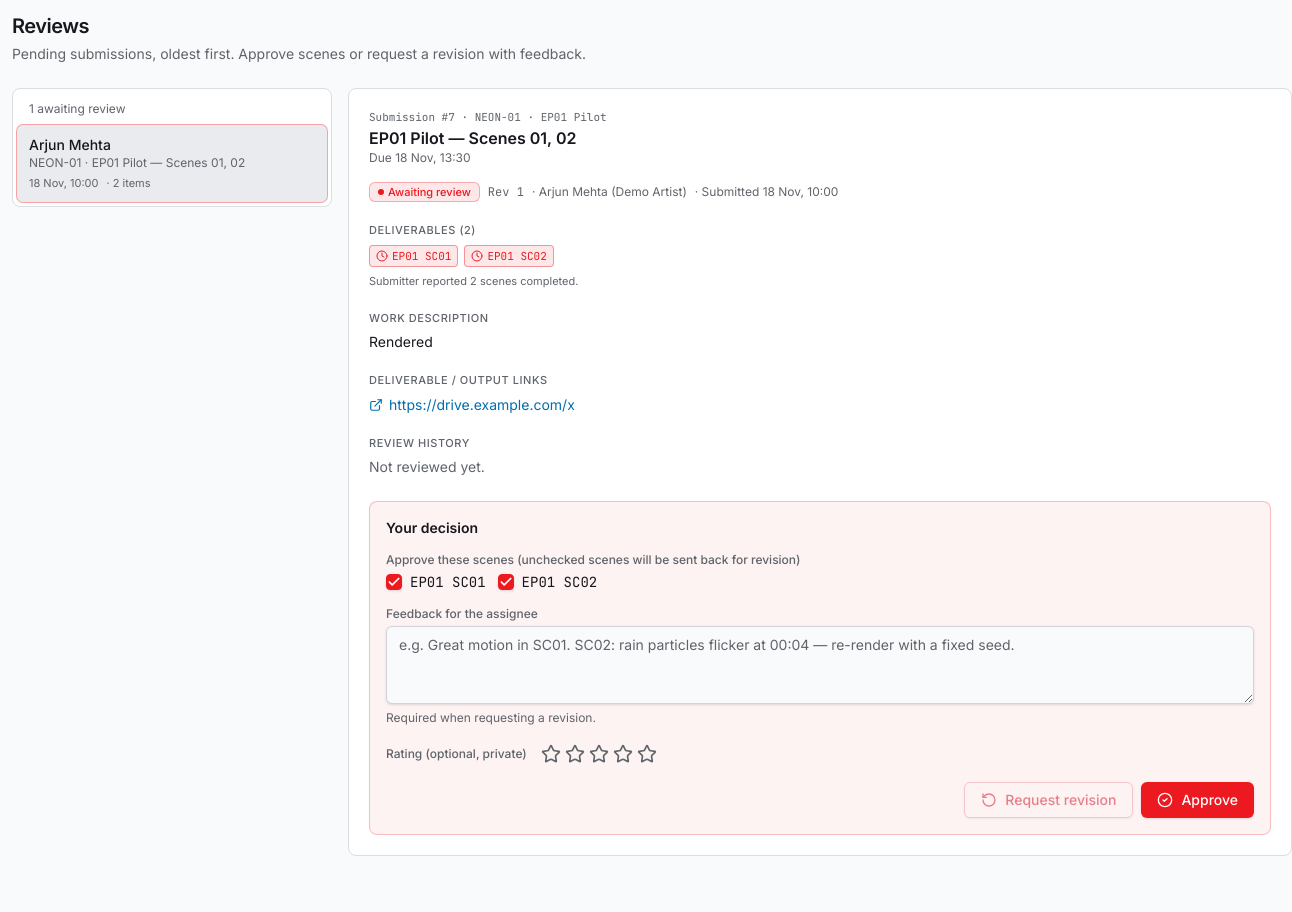
Test case: ReviewsPage › requires feedback for partial approval and sends only the checked scenes
This screenshot has width=1292, height=912.
Later steps or results of the test are not shown.
Expected: the button "Approve" is enabled, x1=1141 y1=782 x2=1254 y2=818
Expected: the button "Request revision" is disabled, x1=964 y1=782 x2=1134 y2=818
Click the 2nd checkbox named "EP01 SC02" at (506, 582), box x1=498 y1=574 x2=514 y2=590
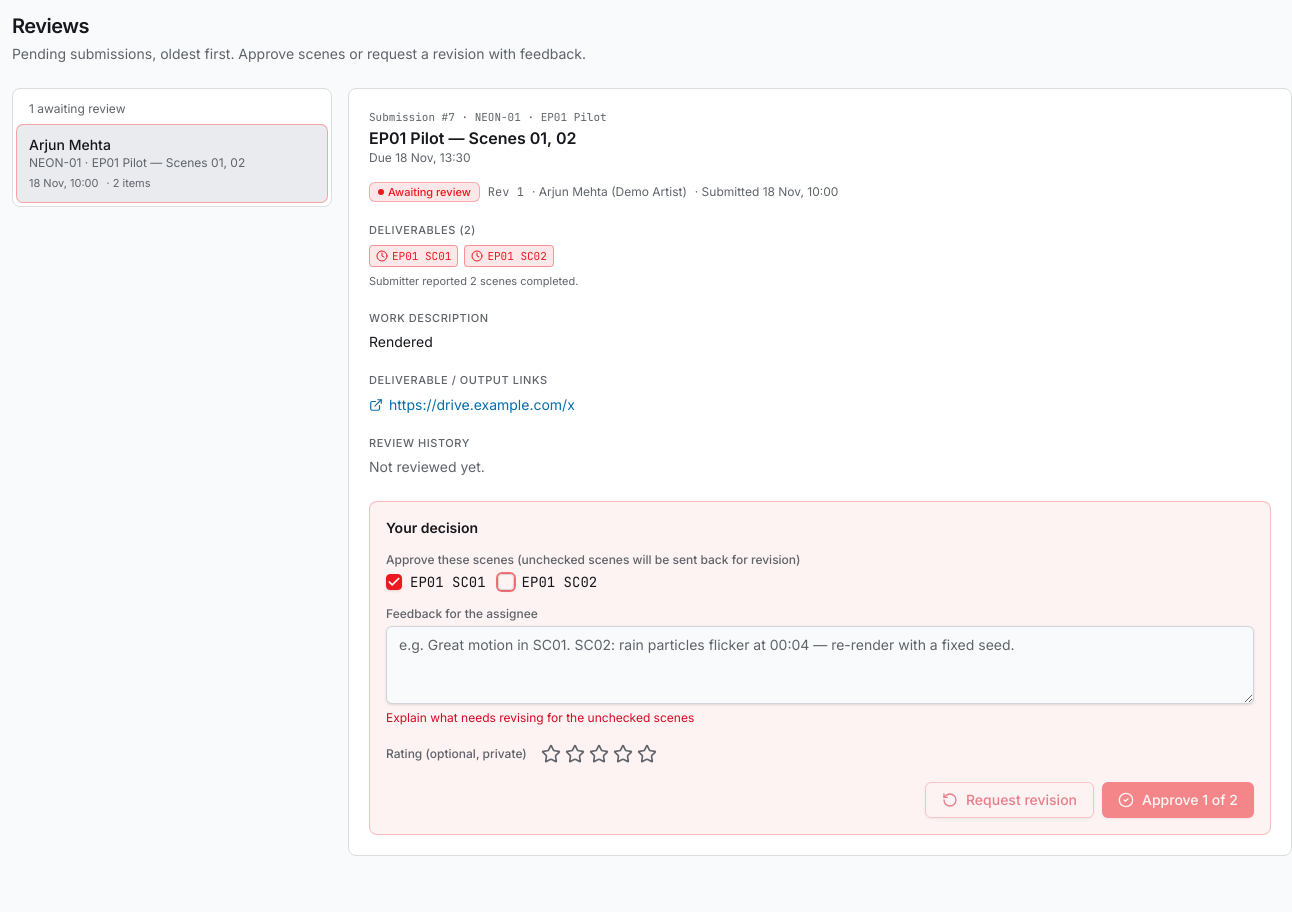
Now the button "Approve 1 of 2" is disabled, box x1=1102 y1=782 x2=1254 y2=818
Now the text "Explain what needs revising for the unchecked scenes" is shown, box x1=386 y1=710 x2=694 y2=725
Type "SC02 flickers at 00:04" into the text box labelled "Feedback for the assignee" at (820, 665), box x1=386 y1=626 x2=1254 y2=704
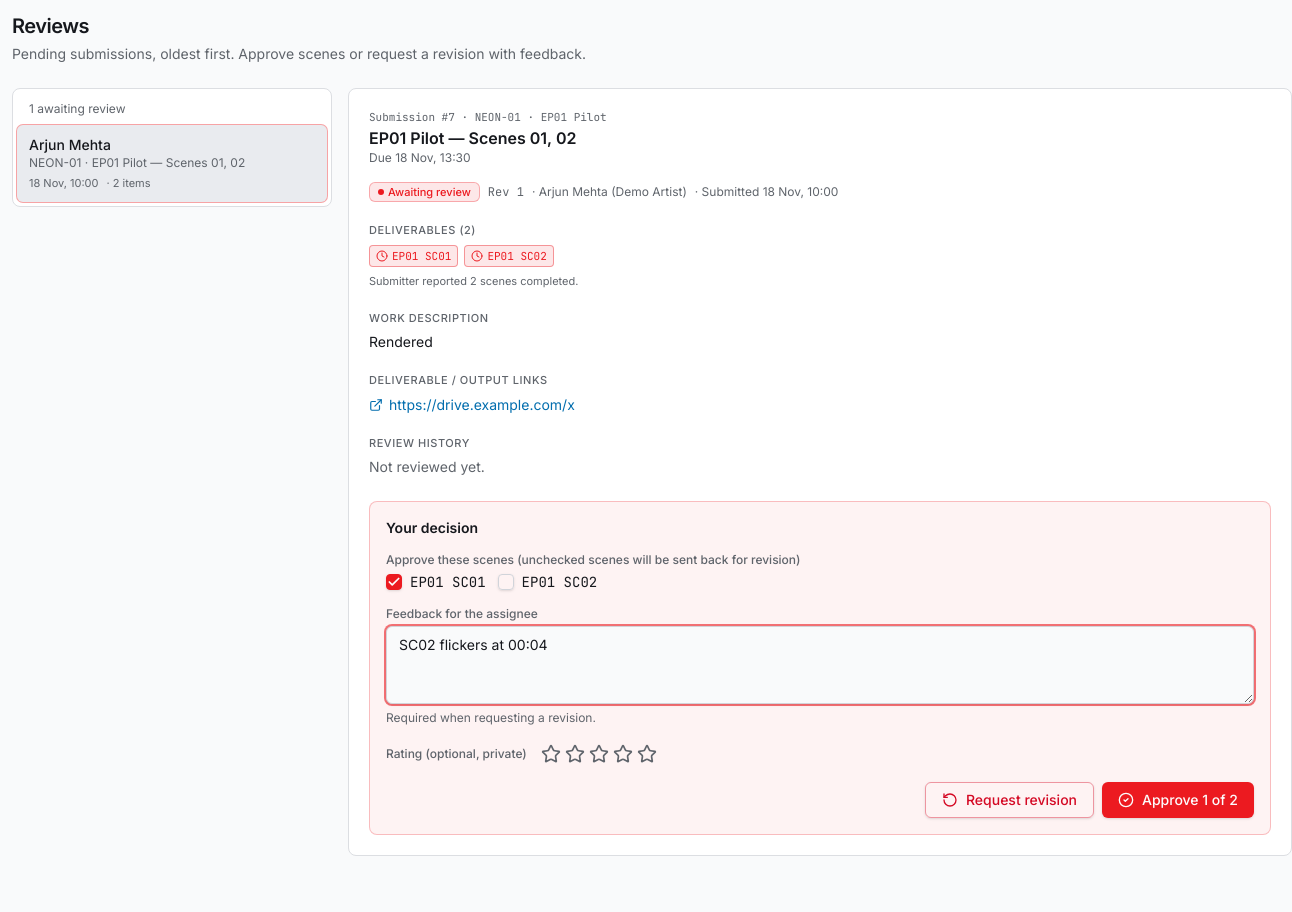
Now the button "Approve 1 of 2" is enabled, box x1=1102 y1=782 x2=1254 y2=818
